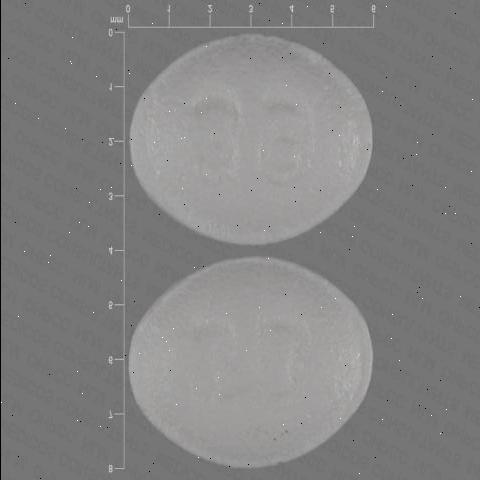Pill: (110, 28, 394, 258), (106, 248, 389, 478)
